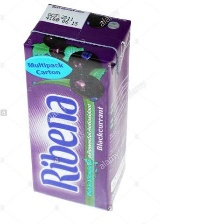carton: (20, 3, 132, 217)
